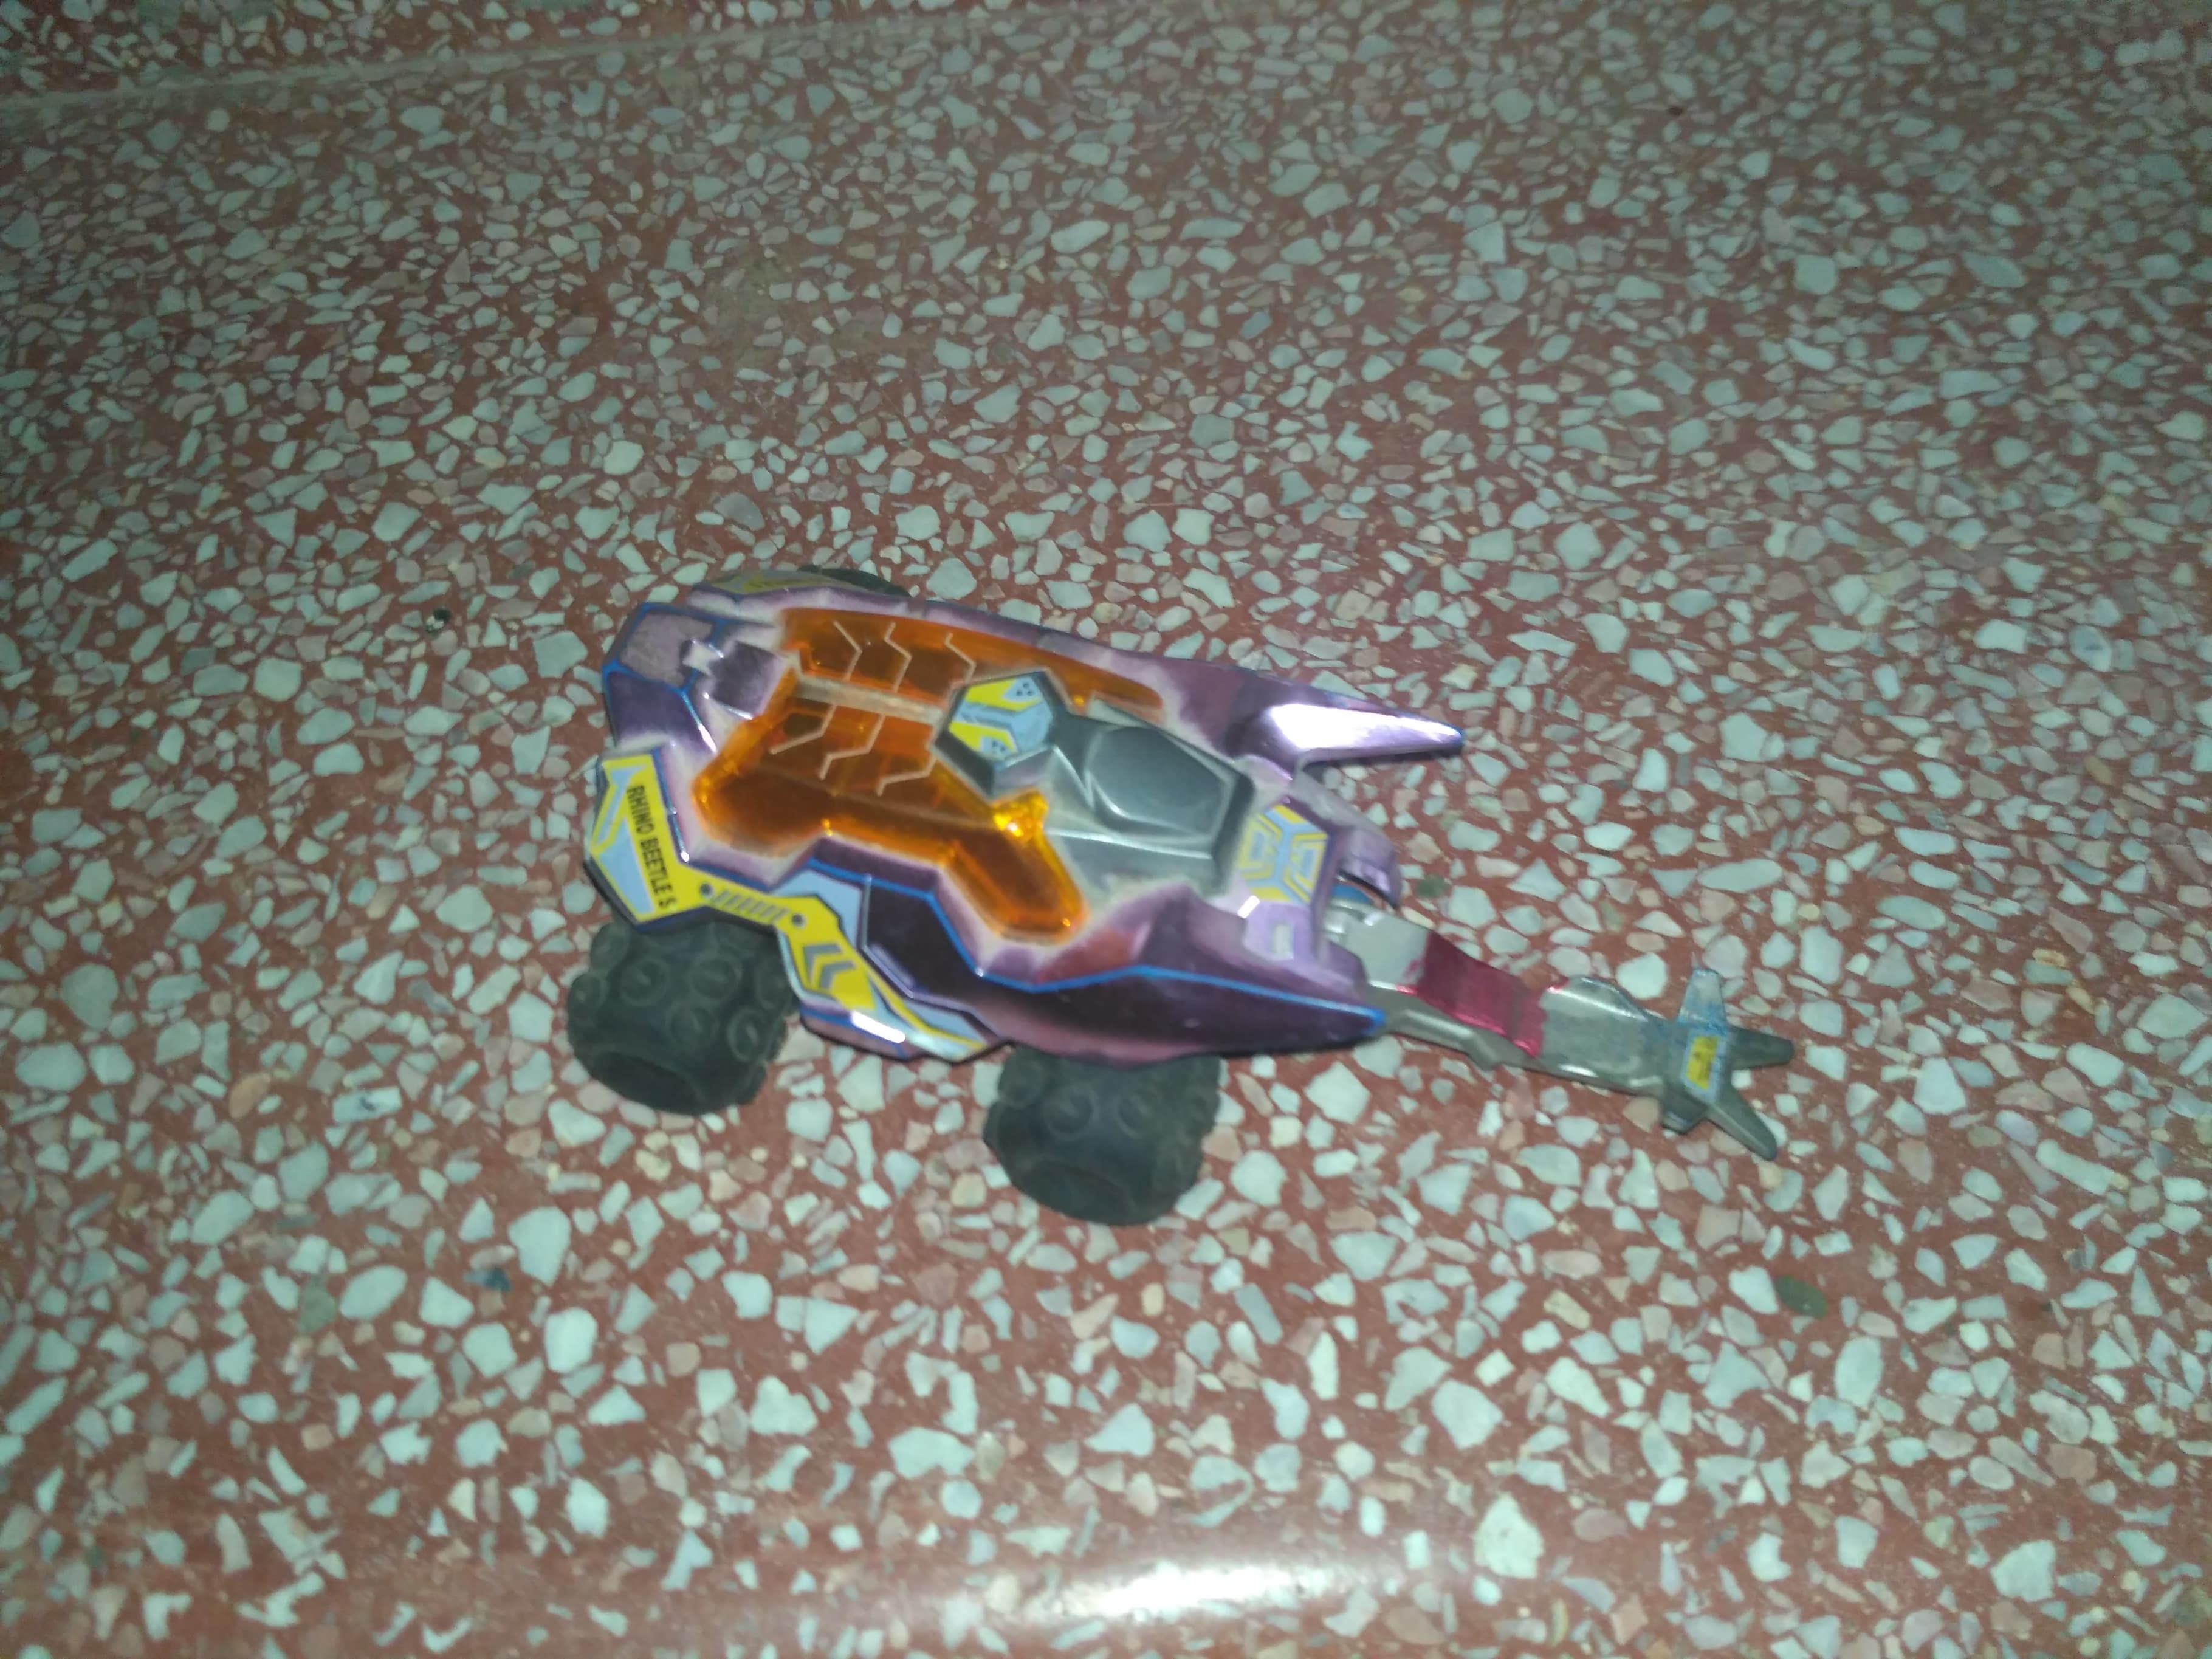rhino: (561, 556, 1808, 1241)
